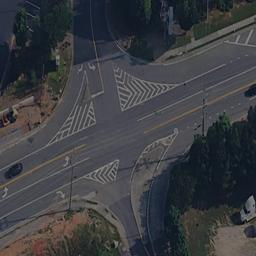Car: (1, 159, 23, 179)
Chevron: (110, 60, 182, 115), (45, 70, 93, 147), (81, 158, 119, 187), (222, 24, 256, 43)
Double Solid Yellow Line: (142, 79, 256, 134), (1, 143, 87, 188)
Left Turn Arrow: (86, 60, 98, 70), (64, 155, 71, 166), (2, 185, 8, 197)
Right Turn Arrow: (56, 189, 67, 200), (76, 64, 82, 74)
Solid White Line: (136, 64, 256, 121), (1, 157, 90, 201), (1, 176, 85, 216), (177, 64, 225, 85)
White Dashed Line: (177, 102, 241, 134), (228, 50, 255, 63)
